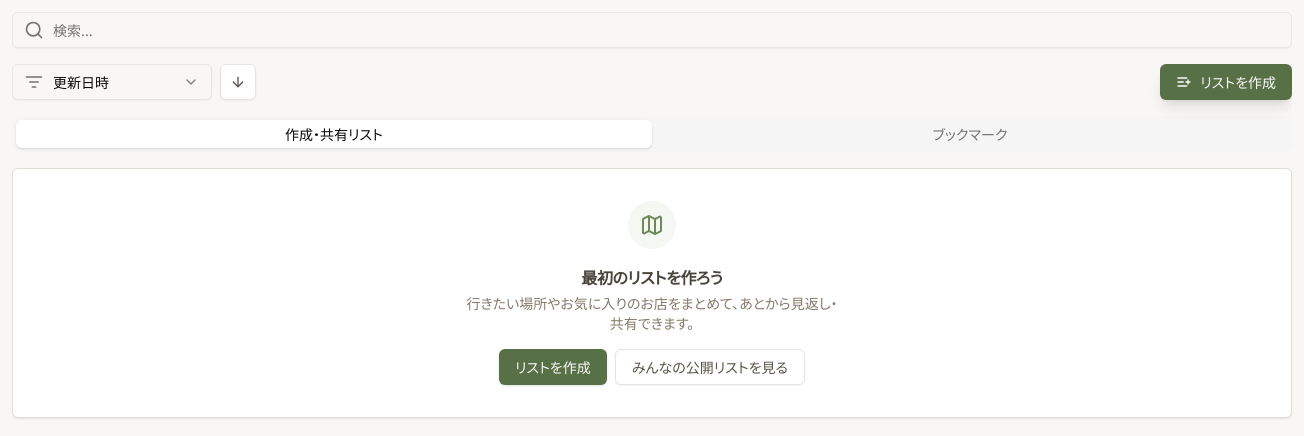
Scenario: MyLists › 各カテゴリのリストが0件の場合に作成導線（発射台）が表示される
Expected: the heading "最初のリストを作ろう" is shown, [581,265,723,289]
Expected: the link "みんなの公開リストを見る" is shown, [615,349,805,385]
Click the tab "ブックマーク". click: point(970, 134)
box: [652,120,1288,148]
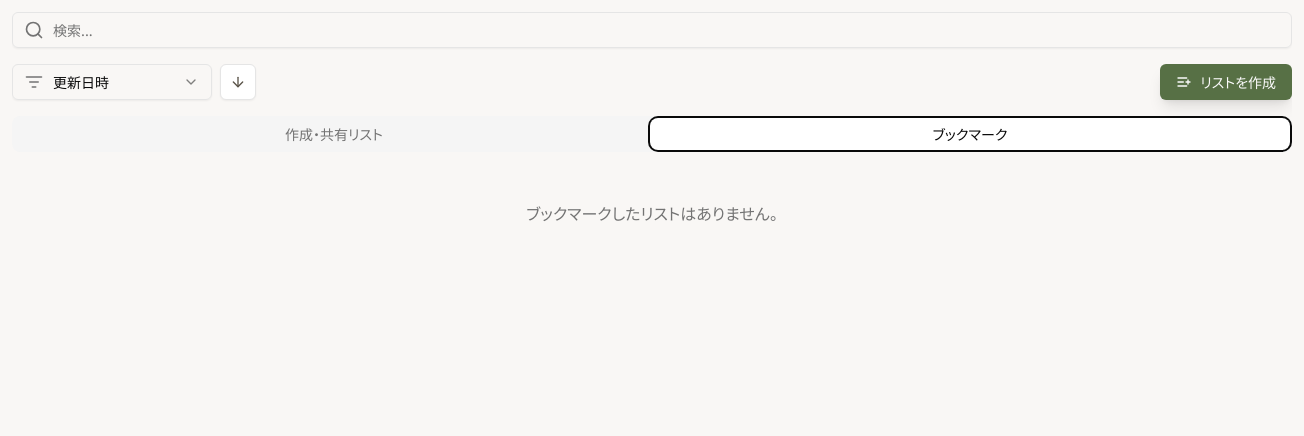
Expected: the text "ブックマークしたリストはありません。" is shown, [526,201,778,225]
